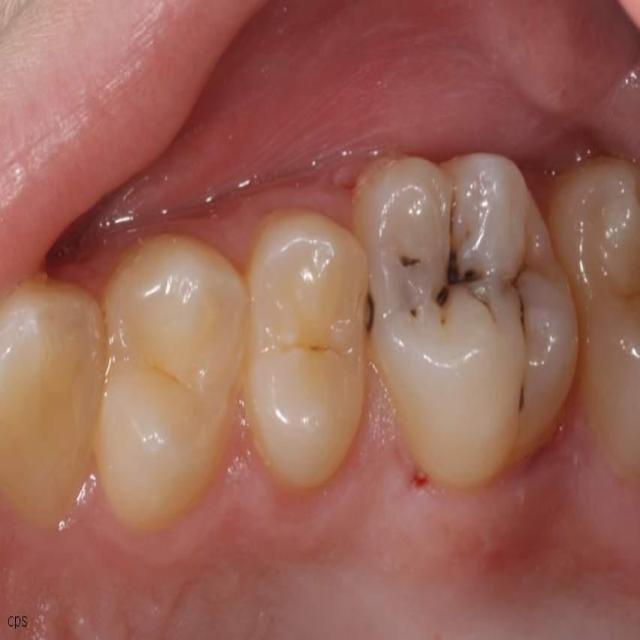Caries: (448, 252, 480, 285), (519, 300, 528, 344), (367, 295, 374, 332), (436, 287, 449, 305), (401, 257, 421, 267), (518, 386, 524, 412), (412, 310, 416, 317)
Tooth: (353, 154, 580, 482), (93, 235, 249, 532), (246, 212, 368, 488), (547, 157, 638, 494), (0, 275, 107, 532)
